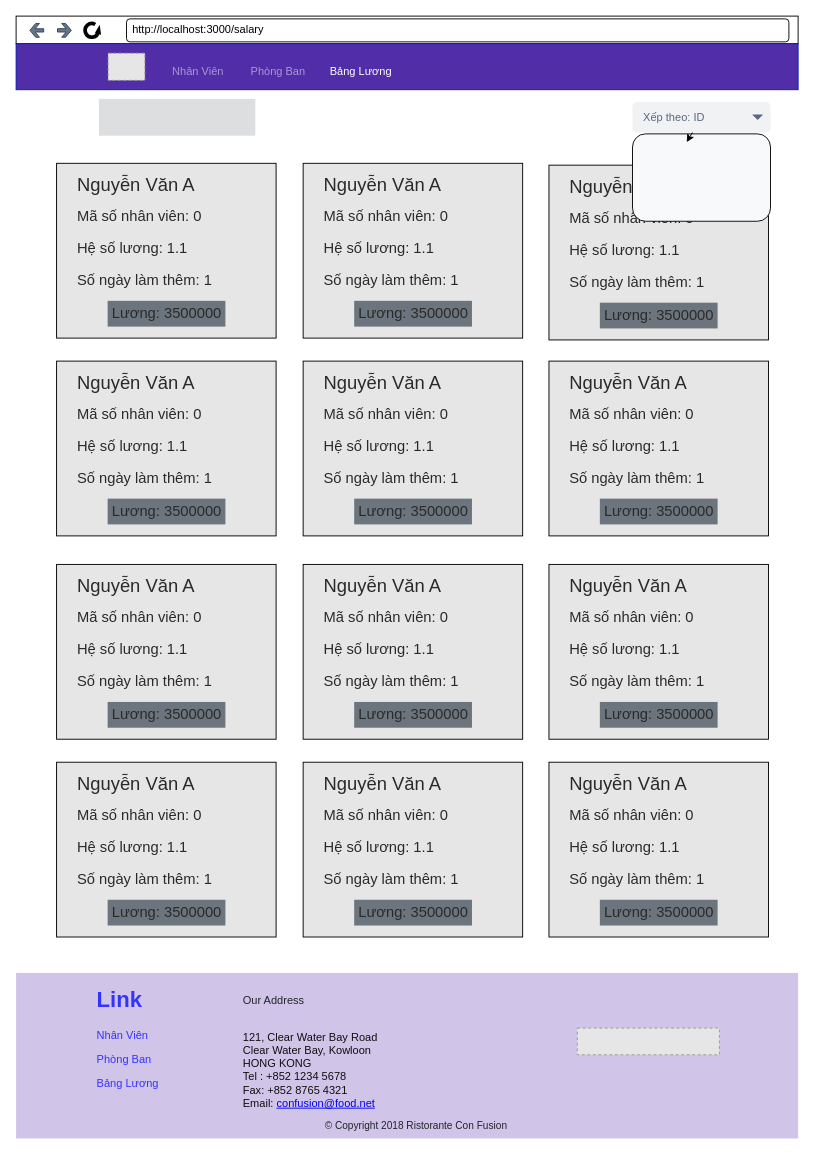
Image size: 814x1155. Some labels were removed from this diagram. Grey dashed boxes stand in for pictures. The shapes that lost their labels are listed below. From the top down, each one's box as (x1, y1, x2, y2) in pixels, then its label:
(98, 98, 255, 135): Nhân viên/ Bảng Lương
(632, 133, 770, 221): Xếp theo: ID Tên (A đến Z) Tên (Z đến A) Lương tăng dần Lương giảm dần
